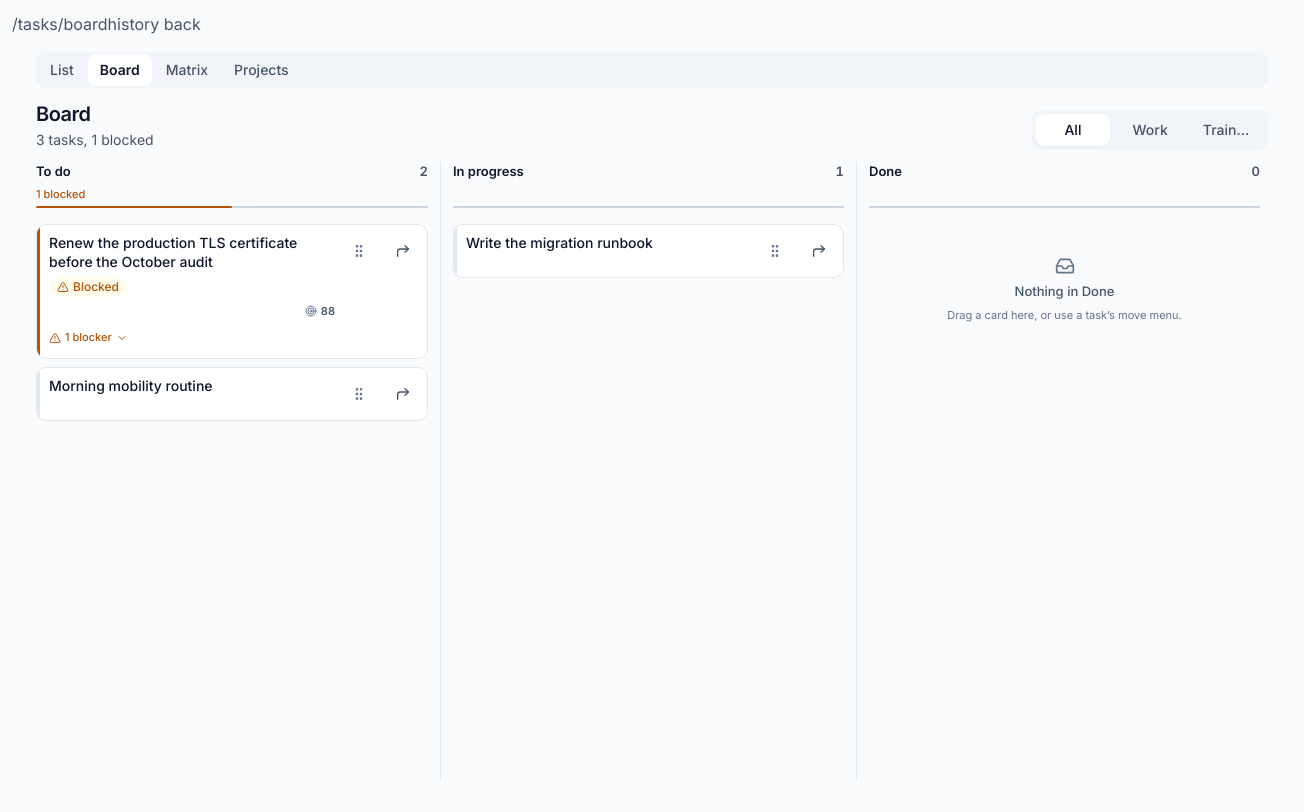
BoardPage - drag lifecycle › raises a floating copy of the card while a drag is in flight
expect the number of elements "Write the migration runbook" is 1: met, box left=453, top=224, right=844, bottom=278
Press the mouse on the button named "Drag Write the migration runbook" at (775, 250), box left=757, top=232, right=793, bottom=268
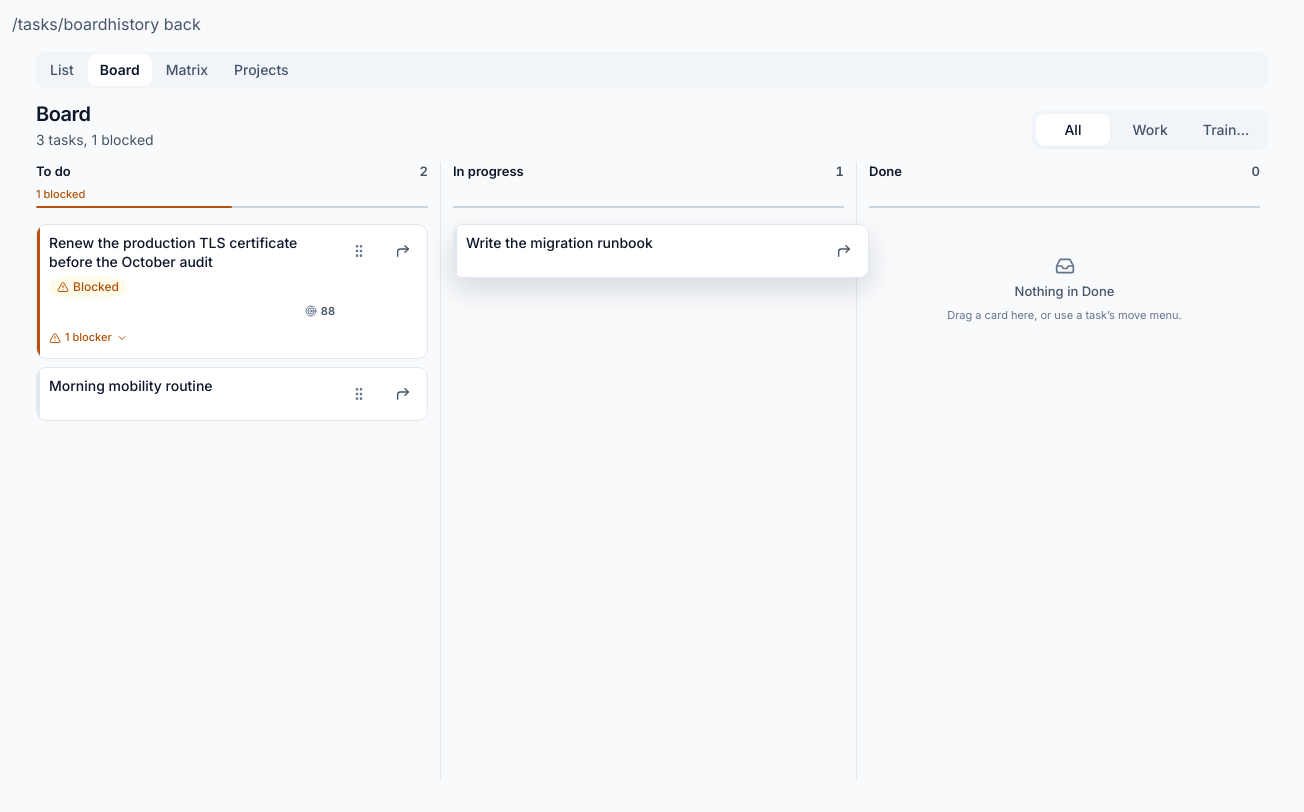
expect the number of elements "Write the migration runbook" is 2: met, box left=453, top=224, right=844, bottom=278; left=453, top=224, right=869, bottom=278
